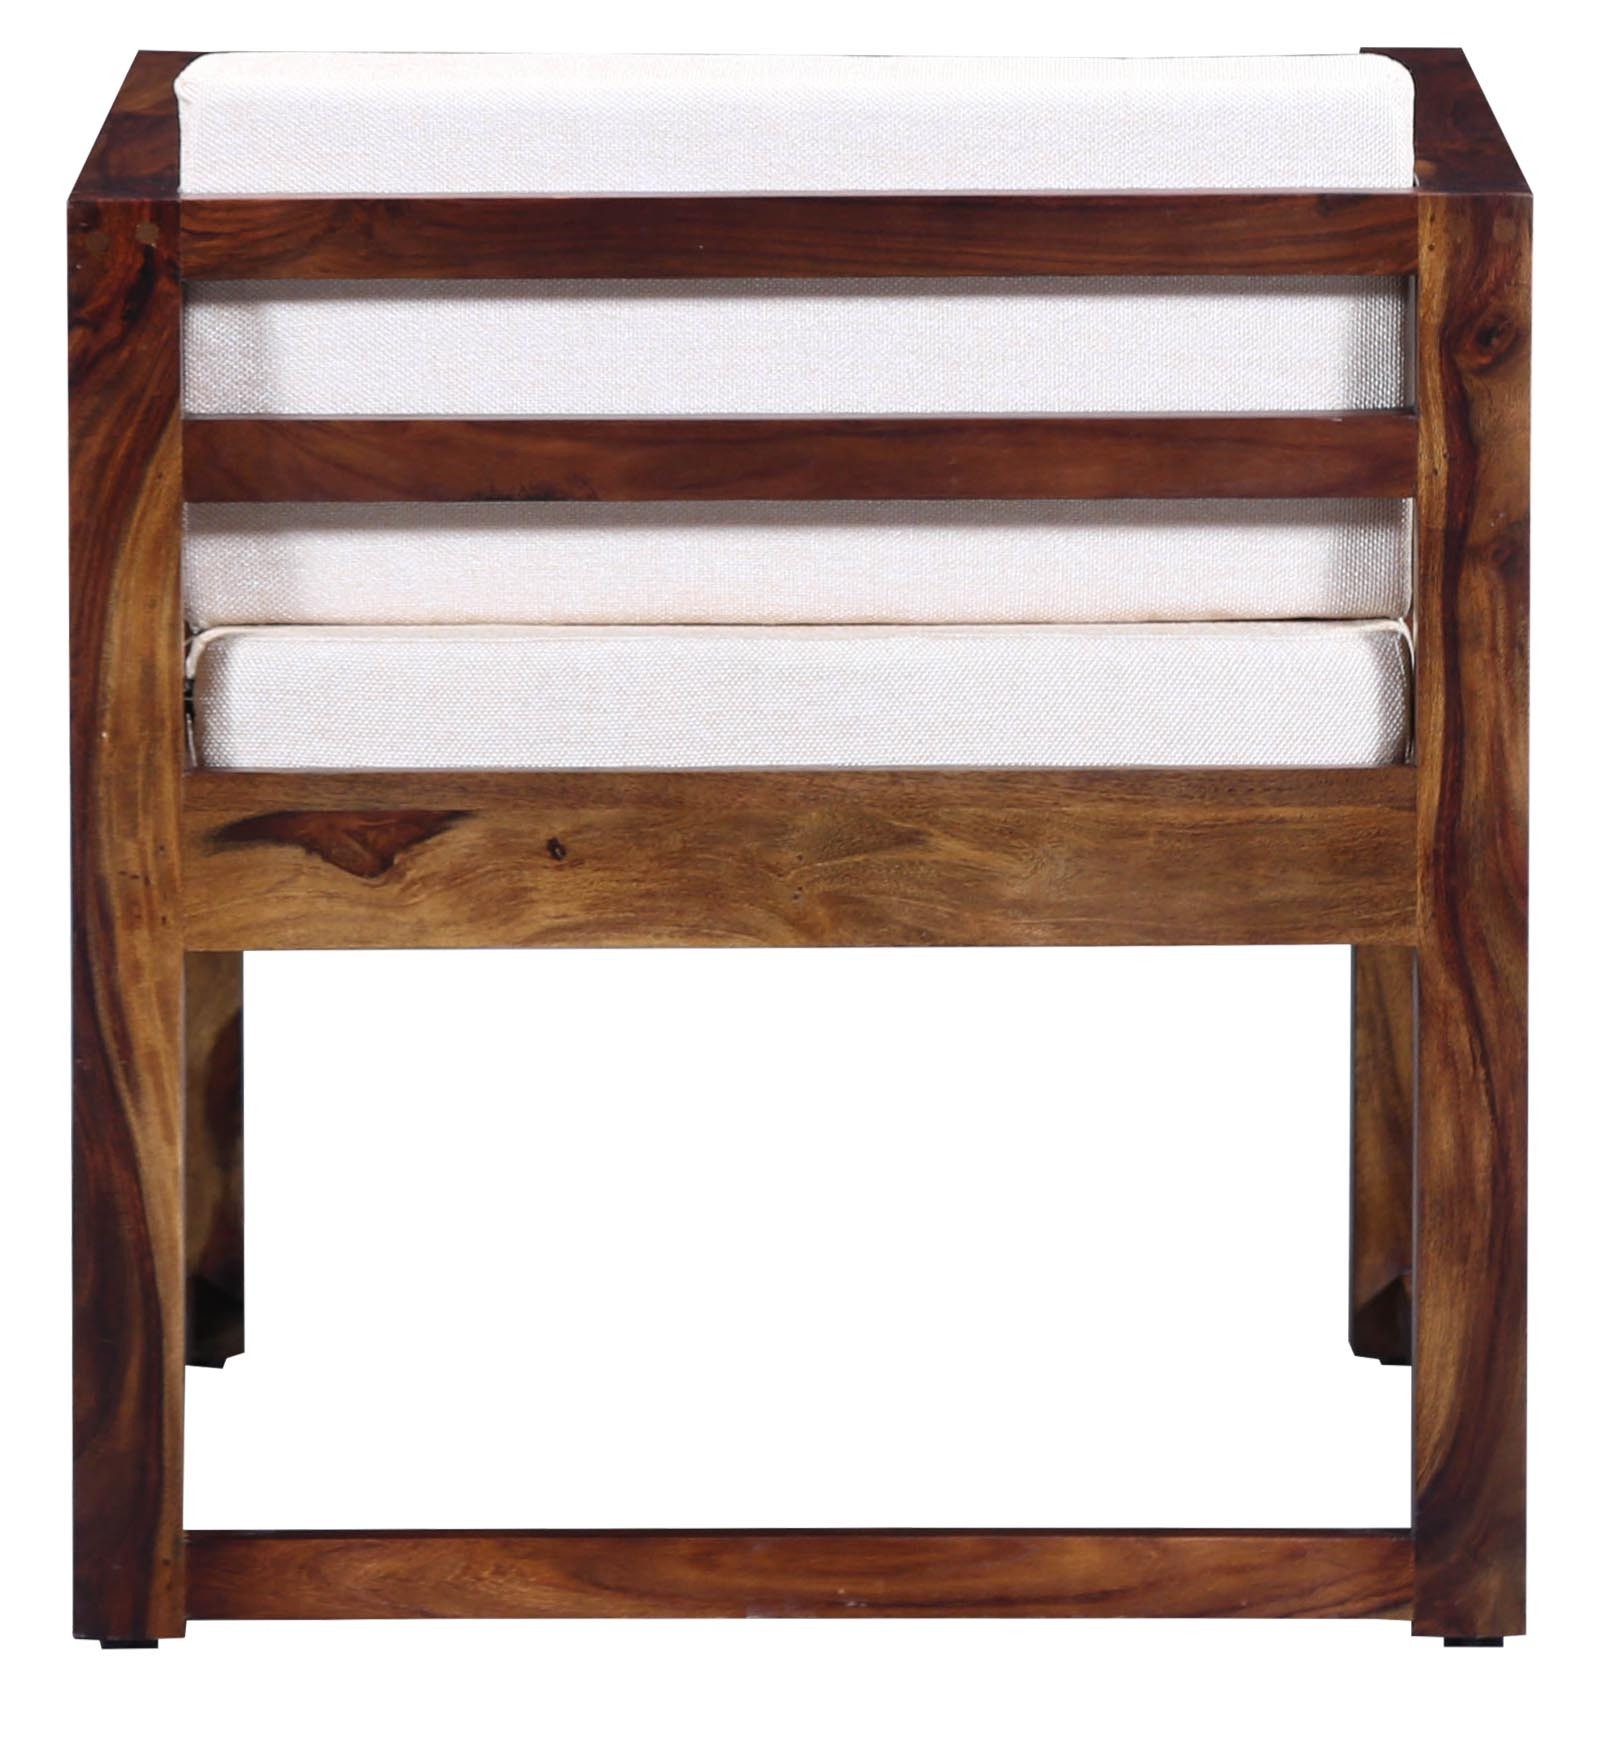Avian Arm Chair in Provincial Teak Finish by Woodsworth: (34, 20, 1557, 1666)
